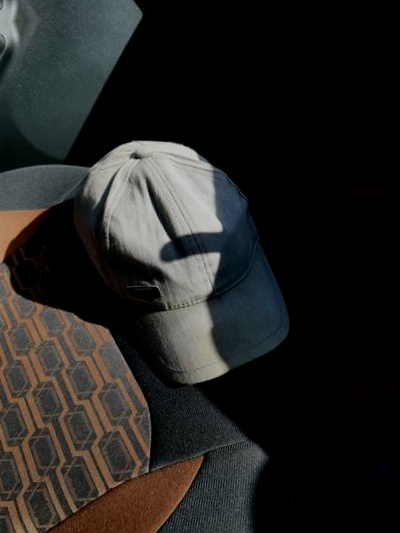Hat: (61, 125, 314, 408)
